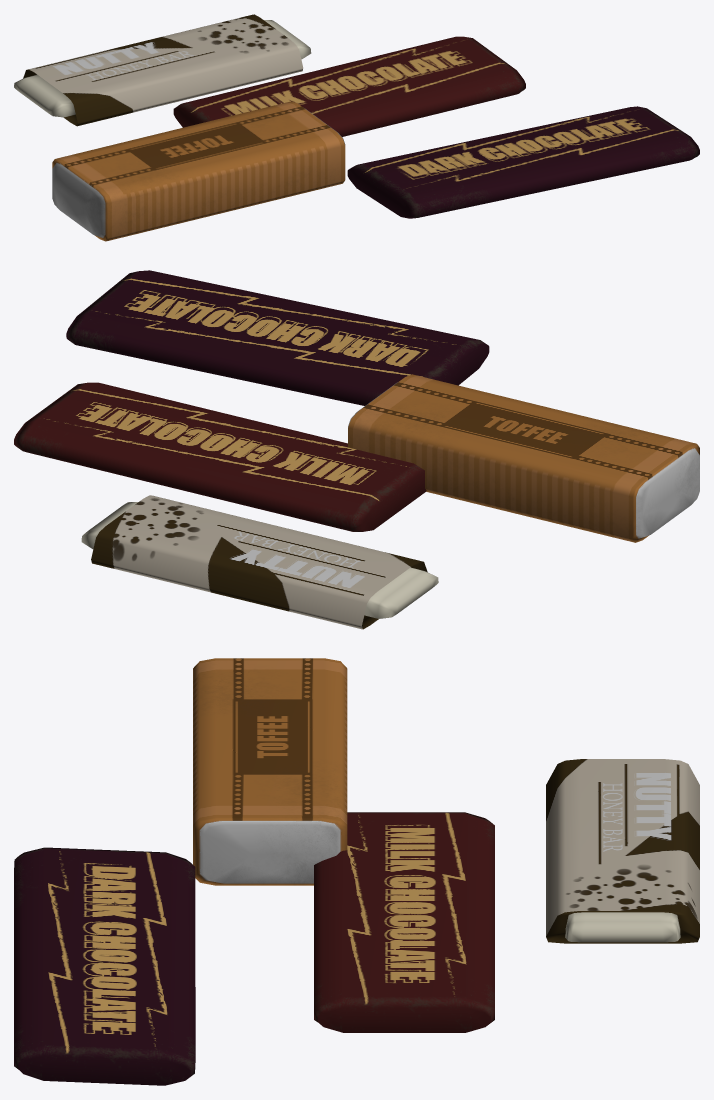
Rendered from candybars.glb.
The picture shows the model from 3 angles, top to bottom: view 1: azimuth 30°, elevation 25°; view 2: azimuth 150°, elevation 25°; view 3: azimuth 270°, elevation 25°; orthographic projection. The views are drawn at different scales.
Parts seen in each view (by area): view 1: HistoricalAssets_JonesV___Copy:HistoricalAssets_JonesV:pCube (×3), pCube19; view 2: HistoricalAssets_JonesV___Copy:HistoricalAssets_JonesV:pCube (×3), pCube19; view 3: HistoricalAssets_JonesV___Copy:HistoricalAssets_JonesV:pCube (×3), pCube19.
Boxes of the visible parts, left/top/right/bottom form: HistoricalAssets_JonesV___Copy:HistoricalAssets_JonesV:pCube (×3): left=14, top=14, right=525, bottom=241; pCube19: left=347, top=106, right=699, bottom=218; HistoricalAssets_JonesV___Copy:HistoricalAssets_JonesV:pCube (×3): left=14, top=374, right=699, bottom=629; pCube19: left=66, top=270, right=489, bottom=405; HistoricalAssets_JonesV___Copy:HistoricalAssets_JonesV:pCube (×3): left=193, top=658, right=699, bottom=1032; pCube19: left=14, top=847, right=195, bottom=1085.
Bounding box in the file's own units: 25.73 × 2.57 × 20.82.
4 materials, 4 textured.
